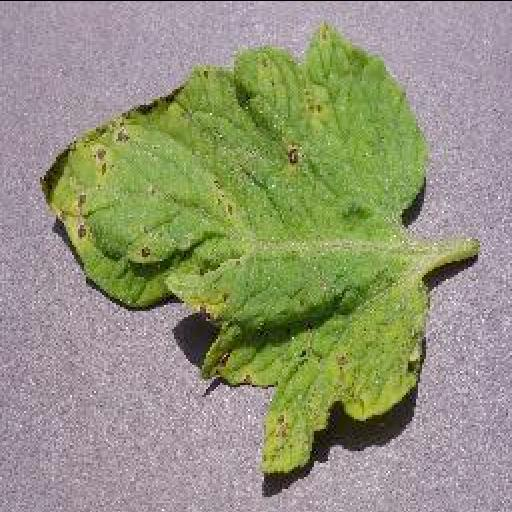disease_tomato: (46, 21, 426, 478)
